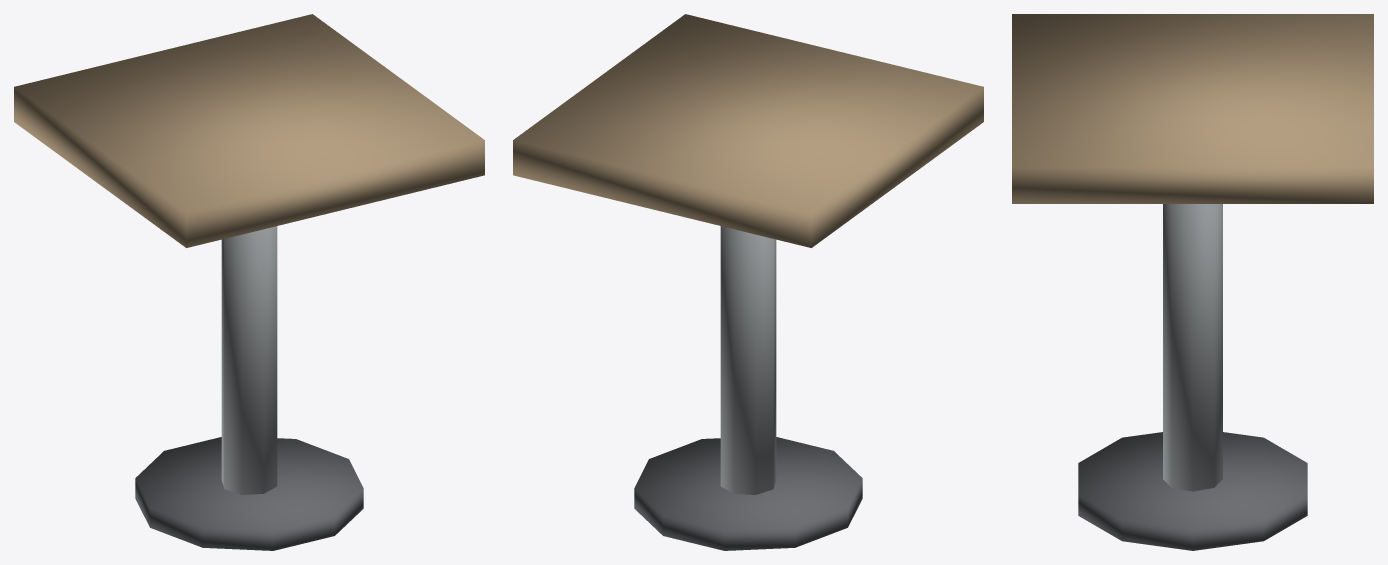
File: diner_two_top__tall.glb
The picture shows the model from 3 angles, left to right: view 1: azimuth 30°, elevation 25°; view 2: azimuth 150°, elevation 25°; view 3: azimuth 270°, elevation 25°; orthographic projection. The views are drawn at different scales.
Parts seen in each view (by area): view 1: world; view 2: world; view 3: world.
Boxes of the visible parts, x1,y1,x2,y2 form: world: (14,14,484,550); world: (513,14,983,550); world: (1012,14,1373,550).
Bounding box in the file's own units: 0.72 × 0.899 × 0.72.
